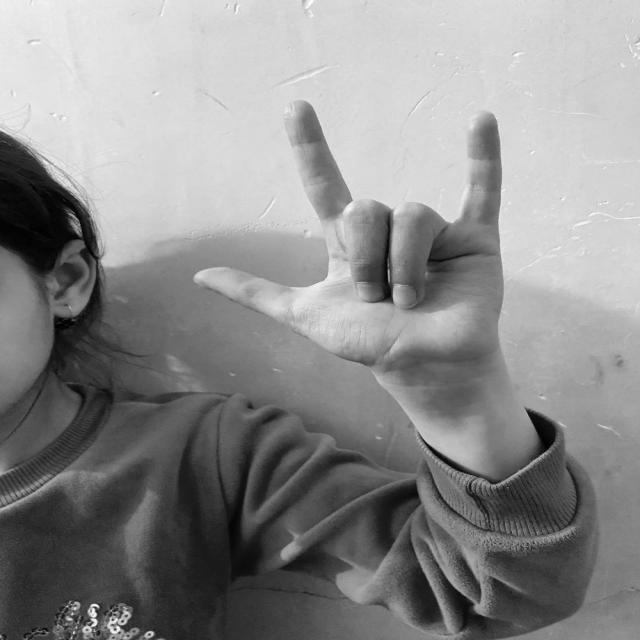i love you: (180, 92, 526, 403)
